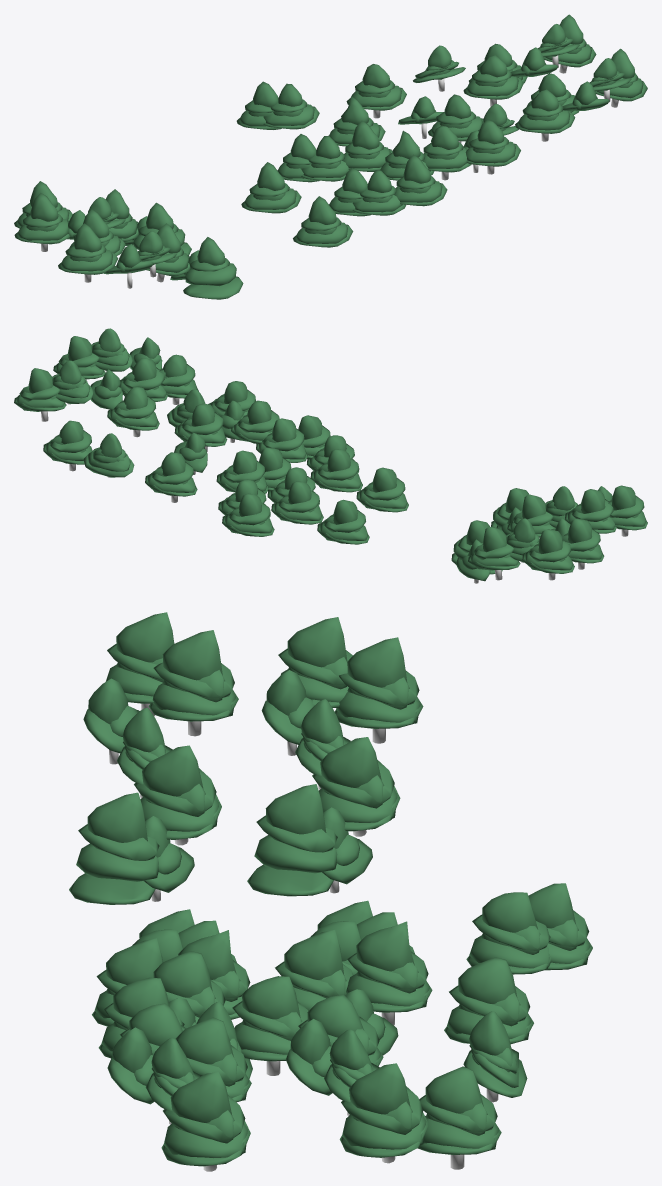
File: front trees.fbx
The picture shows the model from 3 angles, top to bottom: view 1: azimuth 30°, elevation 25°; view 2: azimuth 150°, elevation 25°; view 3: azimuth 270°, elevation 25°; orthographic projection. The views are drawn at different scales.
Parts seen in each view (by area): view 1: FRONT trees; view 2: FRONT trees; view 3: FRONT trees.
Boxes of the visible parts, x1,y1,x2,y2 form: FRONT trees: (14, 14, 647, 299); FRONT trees: (14, 328, 647, 583); FRONT trees: (69, 612, 592, 1171).
Bounding box in the file's own units: 123321 × 26203 × 48394.
